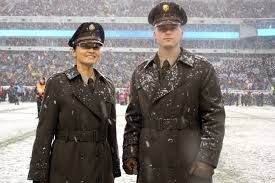uniform: (130, 45, 218, 176), (44, 66, 114, 178)
